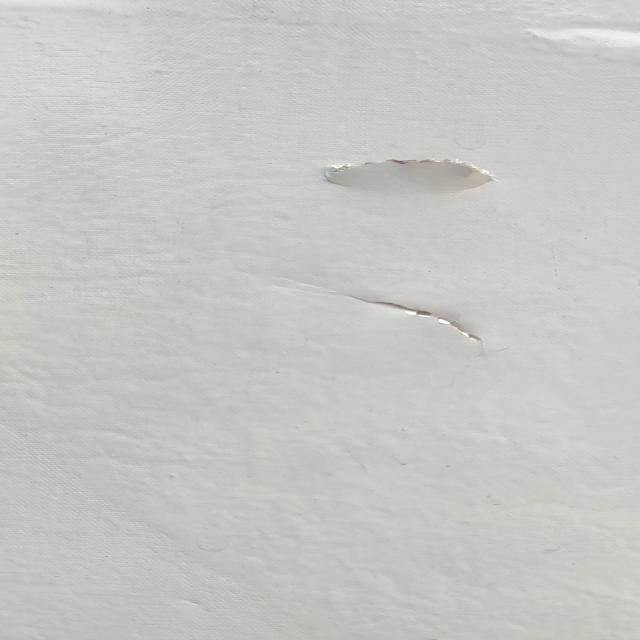Scratches: (319, 277, 504, 357), (307, 138, 516, 198)
